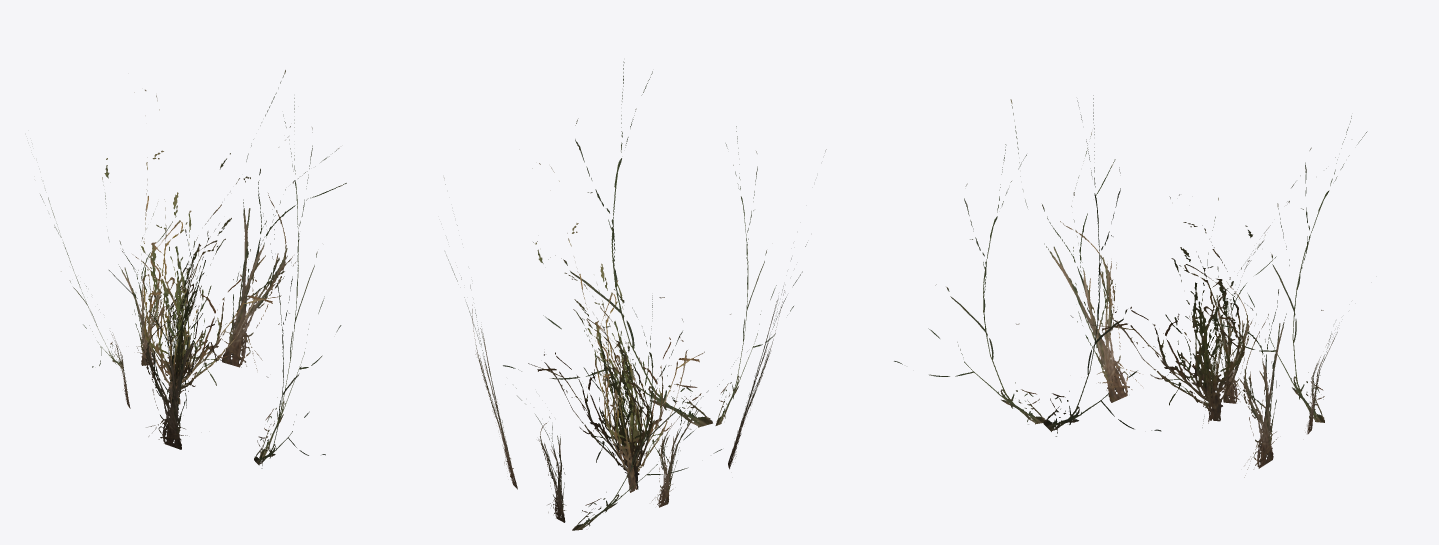
The model's file is reeds_4.FBX.
The picture shows the model from 3 angles, left to right: view 1: azimuth 30°, elevation 25°; view 2: azimuth 150°, elevation 25°; view 3: azimuth 270°, elevation 25°; orthographic projection. The views are drawn at different scales.
Parts seen in each view (by area): view 1: reeds_4; view 2: reeds_4; view 3: reeds_4.
Boxes of the visible parts, <box> form: reeds_4: <box>40,70,346,468</box>; reeds_4: <box>444,61,826,530</box>; reeds_4: <box>894,95,1367,477</box>.
Size of the model in its own units: 98.82 by 116 by 130.
1 material, 1 textured.
